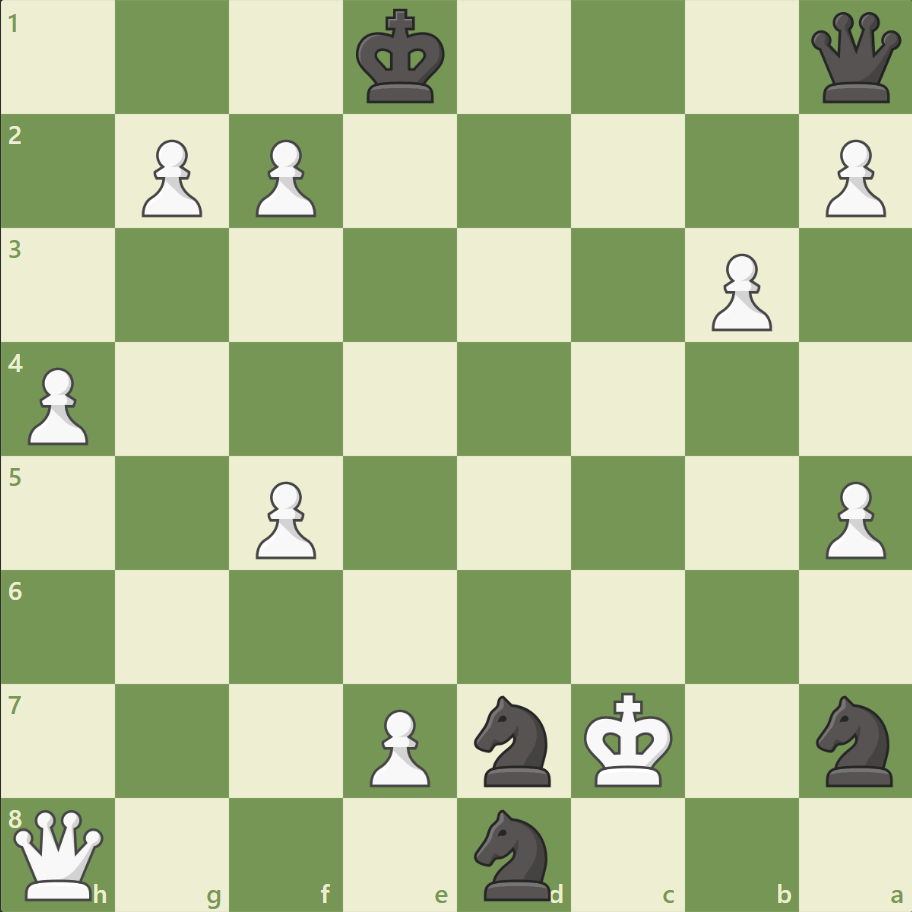K: (579, 685, 679, 793)
P: (247, 473, 322, 564), (20, 359, 95, 450), (701, 246, 776, 337), (247, 132, 322, 223), (133, 132, 208, 223), (361, 700, 435, 791), (815, 473, 889, 564), (815, 132, 889, 223)
Q: (10, 804, 109, 903)
k: (351, 4, 451, 112)
n: (806, 688, 903, 791), (465, 688, 562, 791), (465, 802, 562, 904)
q: (805, 9, 904, 108)
